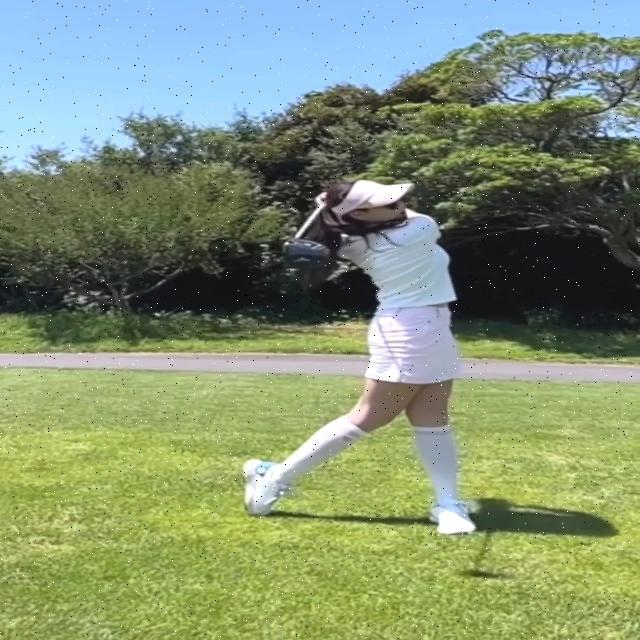golf club-handle: (283, 194, 335, 271)
golf club-head: (283, 239, 334, 271)
